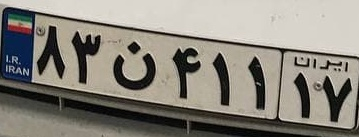character: (110, 32, 157, 93), (166, 44, 205, 104), (71, 28, 104, 88), (320, 72, 356, 126), (37, 20, 67, 82), (241, 53, 270, 111), (284, 71, 318, 119), (210, 49, 235, 108)
